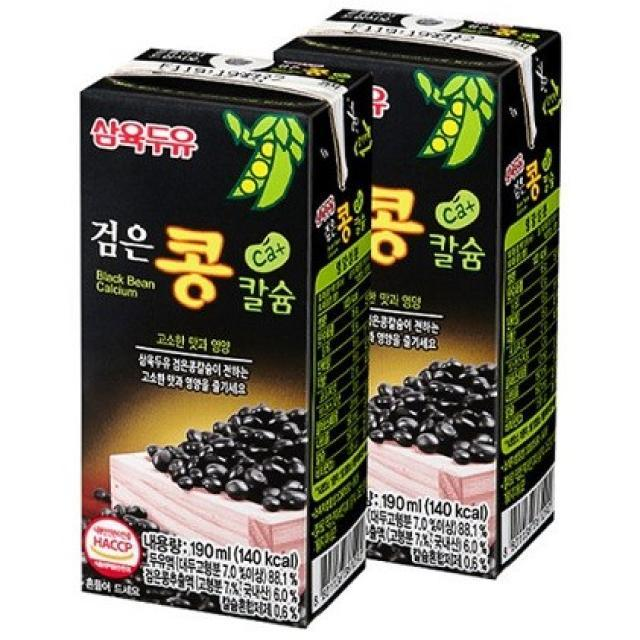Tetra: (71, 28, 376, 625), (266, 4, 576, 591)
